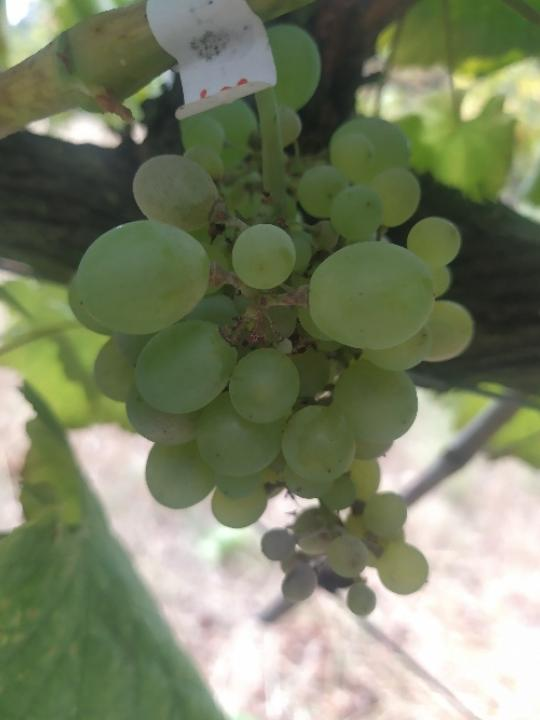grape: (64, 19, 479, 621)
